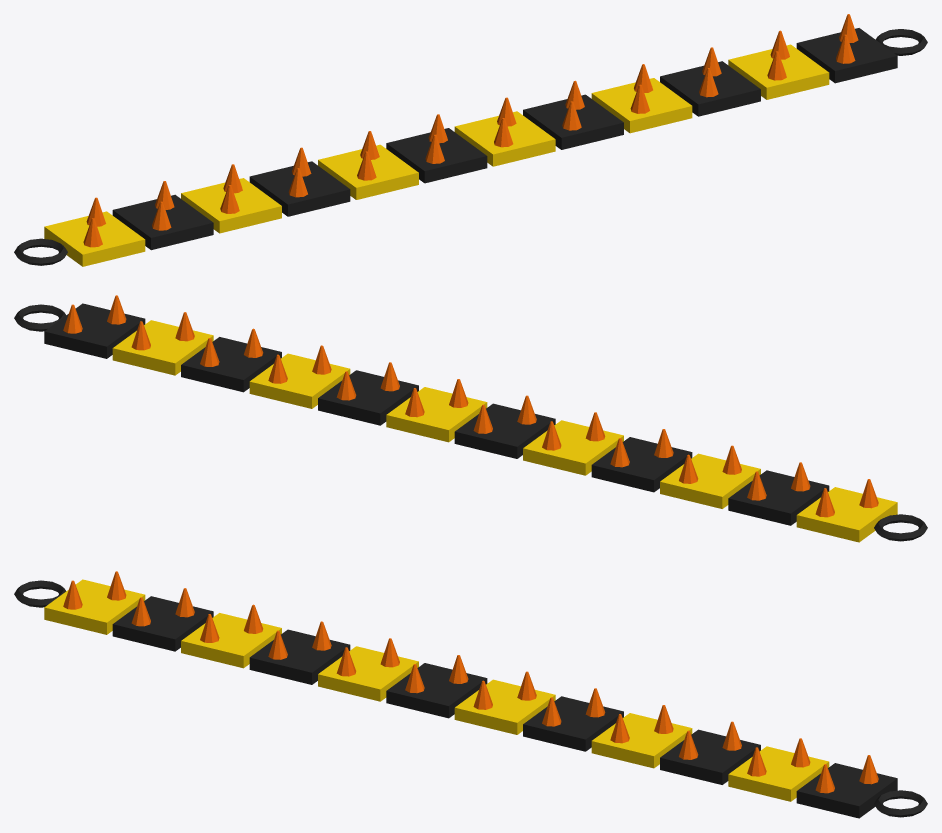
The model's file is heist_spikes.glb.
The picture shows the model from 3 angles, top to bottom: view 1: azimuth 30°, elevation 25°; view 2: azimuth 150°, elevation 25°; view 3: azimuth 330°, elevation 25°; orthographic projection.
Parts seen in each view (by area): view 1: HeistSpikes_body; view 2: HeistSpikes_body; view 3: HeistSpikes_body.
Part boxes in pixels (bbox=[...]): HeistSpikes_body: bbox=[14, 14, 927, 266]; HeistSpikes_body: bbox=[14, 295, 927, 542]; HeistSpikes_body: bbox=[14, 571, 927, 818].
Size of the model in its own units: 4.64 by 0.18 by 0.34.
